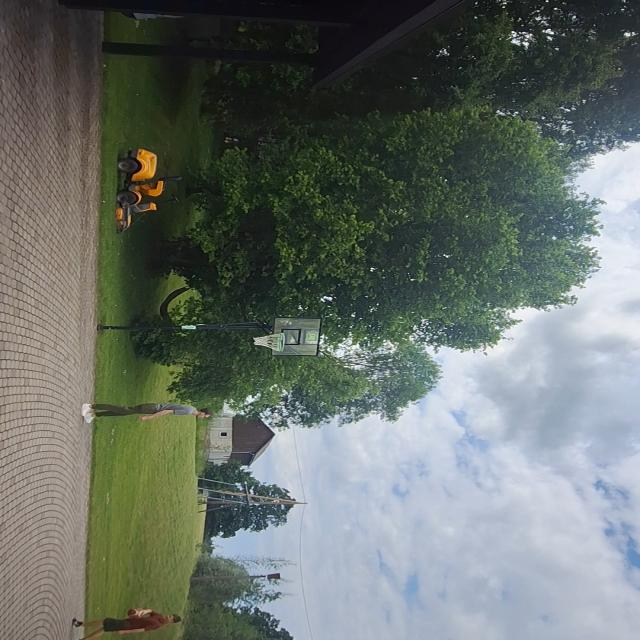ball: (126, 606, 146, 619)
hoop: (252, 331, 289, 355)
player: (69, 605, 186, 640), (78, 400, 216, 424)
